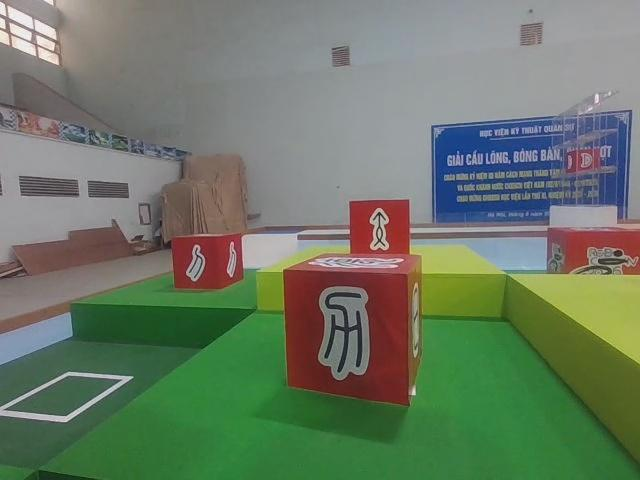R1: (545, 222, 640, 286)
R2 Fake: (280, 250, 425, 409)
R2 Real: (169, 229, 244, 293), (345, 198, 413, 261)
